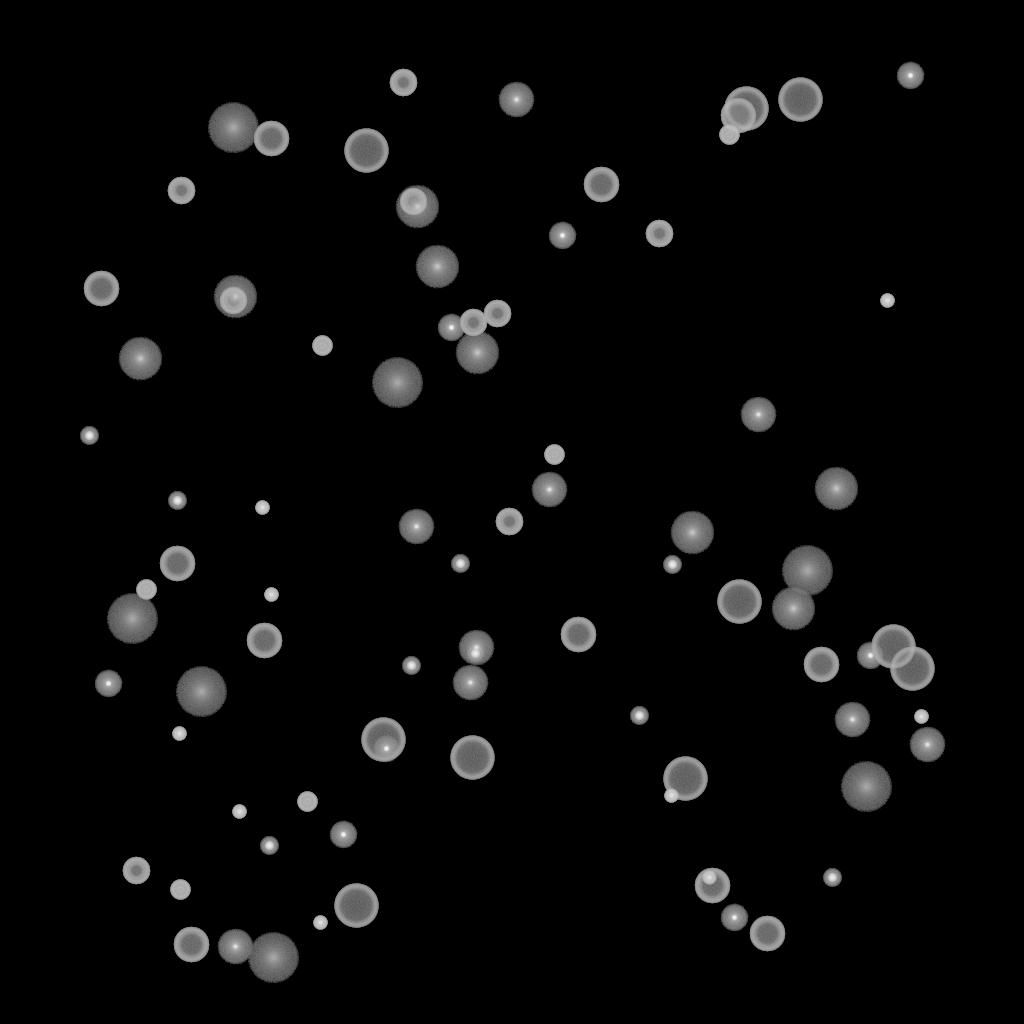depth:-10: (720, 904, 748, 932), (856, 642, 884, 670), (372, 735, 400, 763), (329, 821, 357, 849), (896, 62, 924, 90), (548, 222, 576, 250), (94, 670, 122, 698), (437, 314, 465, 342)
depth:-20: (168, 492, 186, 510), (80, 427, 98, 445), (823, 869, 841, 887), (466, 645, 484, 663), (630, 707, 648, 725), (663, 556, 681, 574), (402, 657, 420, 675), (260, 837, 278, 855), (451, 555, 469, 573)
depth:-30: (702, 871, 716, 885), (255, 501, 269, 515), (880, 294, 894, 308), (232, 805, 246, 819), (914, 710, 928, 724), (664, 789, 678, 803), (264, 588, 278, 602), (313, 916, 327, 930), (172, 727, 186, 741)
depth:-40: (297, 792, 317, 812), (170, 880, 190, 900), (719, 125, 739, 145), (312, 336, 332, 356), (136, 580, 156, 600), (544, 445, 564, 465)
depth:-50: (495, 508, 523, 536), (122, 857, 150, 885), (645, 220, 673, 248), (459, 309, 487, 337), (389, 69, 417, 97), (399, 188, 427, 216), (483, 300, 511, 328), (167, 177, 195, 205), (219, 287, 247, 315)
depth:-60: (246, 623, 282, 659), (749, 916, 785, 952), (173, 927, 209, 963), (253, 121, 289, 157), (583, 167, 619, 203), (803, 647, 839, 683), (83, 271, 119, 307), (694, 868, 730, 904), (159, 546, 195, 582), (720, 98, 756, 134), (560, 617, 596, 653)
depth:-70: (778, 78, 822, 122), (344, 129, 388, 173), (724, 87, 768, 131), (871, 625, 915, 669), (663, 757, 707, 801), (450, 736, 494, 780), (361, 718, 405, 762), (717, 580, 761, 624), (334, 884, 378, 928), (890, 647, 934, 691)
depth:0: (740, 397, 776, 433), (531, 472, 567, 508), (458, 630, 494, 666), (834, 702, 870, 738), (398, 509, 434, 545), (498, 82, 534, 118), (217, 929, 253, 965), (909, 727, 945, 763), (452, 665, 488, 701)
depth:10: (670, 511, 714, 555), (118, 337, 162, 381), (814, 467, 858, 511), (395, 185, 439, 229), (213, 275, 257, 319), (771, 587, 815, 631), (415, 245, 459, 289), (455, 331, 499, 375)
depth:20: (247, 933, 299, 983), (106, 594, 158, 644), (840, 762, 892, 812), (207, 103, 259, 153), (781, 546, 833, 596), (371, 358, 423, 408), (175, 667, 227, 717)
